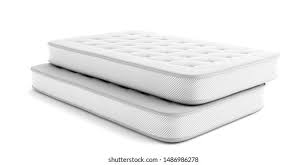bed-matress: (30, 64, 265, 144), (45, 27, 278, 106)
